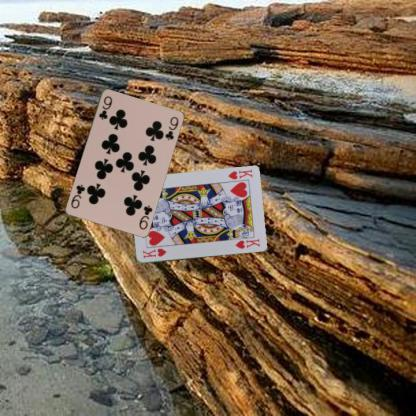9c: (136, 202, 154, 231), (96, 93, 113, 121)
Kh: (225, 167, 254, 181), (140, 245, 167, 260)
